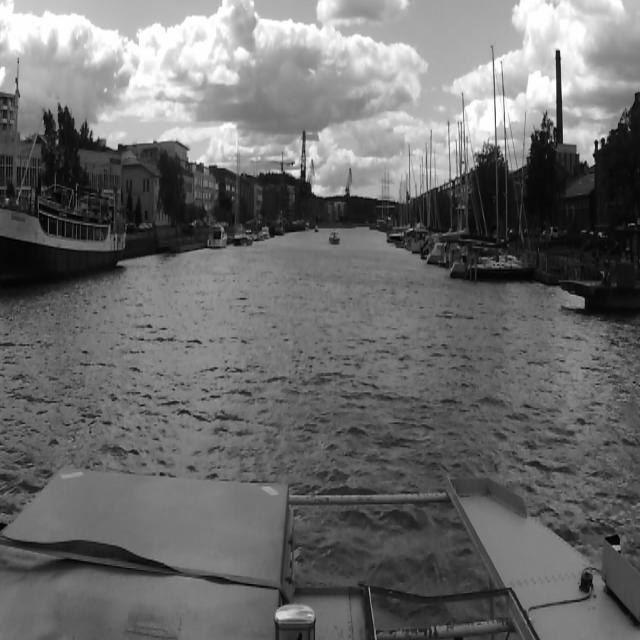ship: (450, 41, 538, 283), (2, 181, 124, 282), (552, 231, 634, 327), (389, 130, 441, 244), (232, 141, 252, 248), (206, 221, 226, 247), (329, 232, 339, 244)
